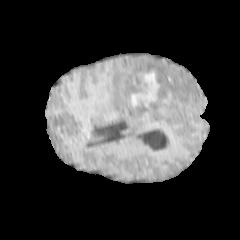glioma: (109, 58, 200, 132)
